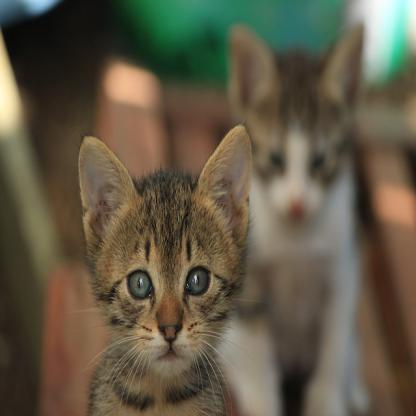cat: (230, 22, 373, 415), (79, 125, 254, 415)
